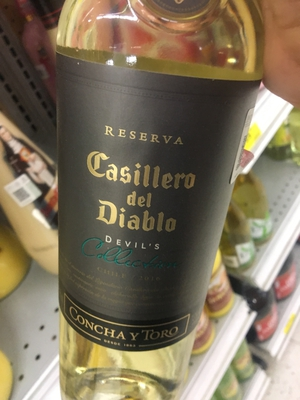casillero del diablo devils collection verde: (36, 2, 261, 400)
